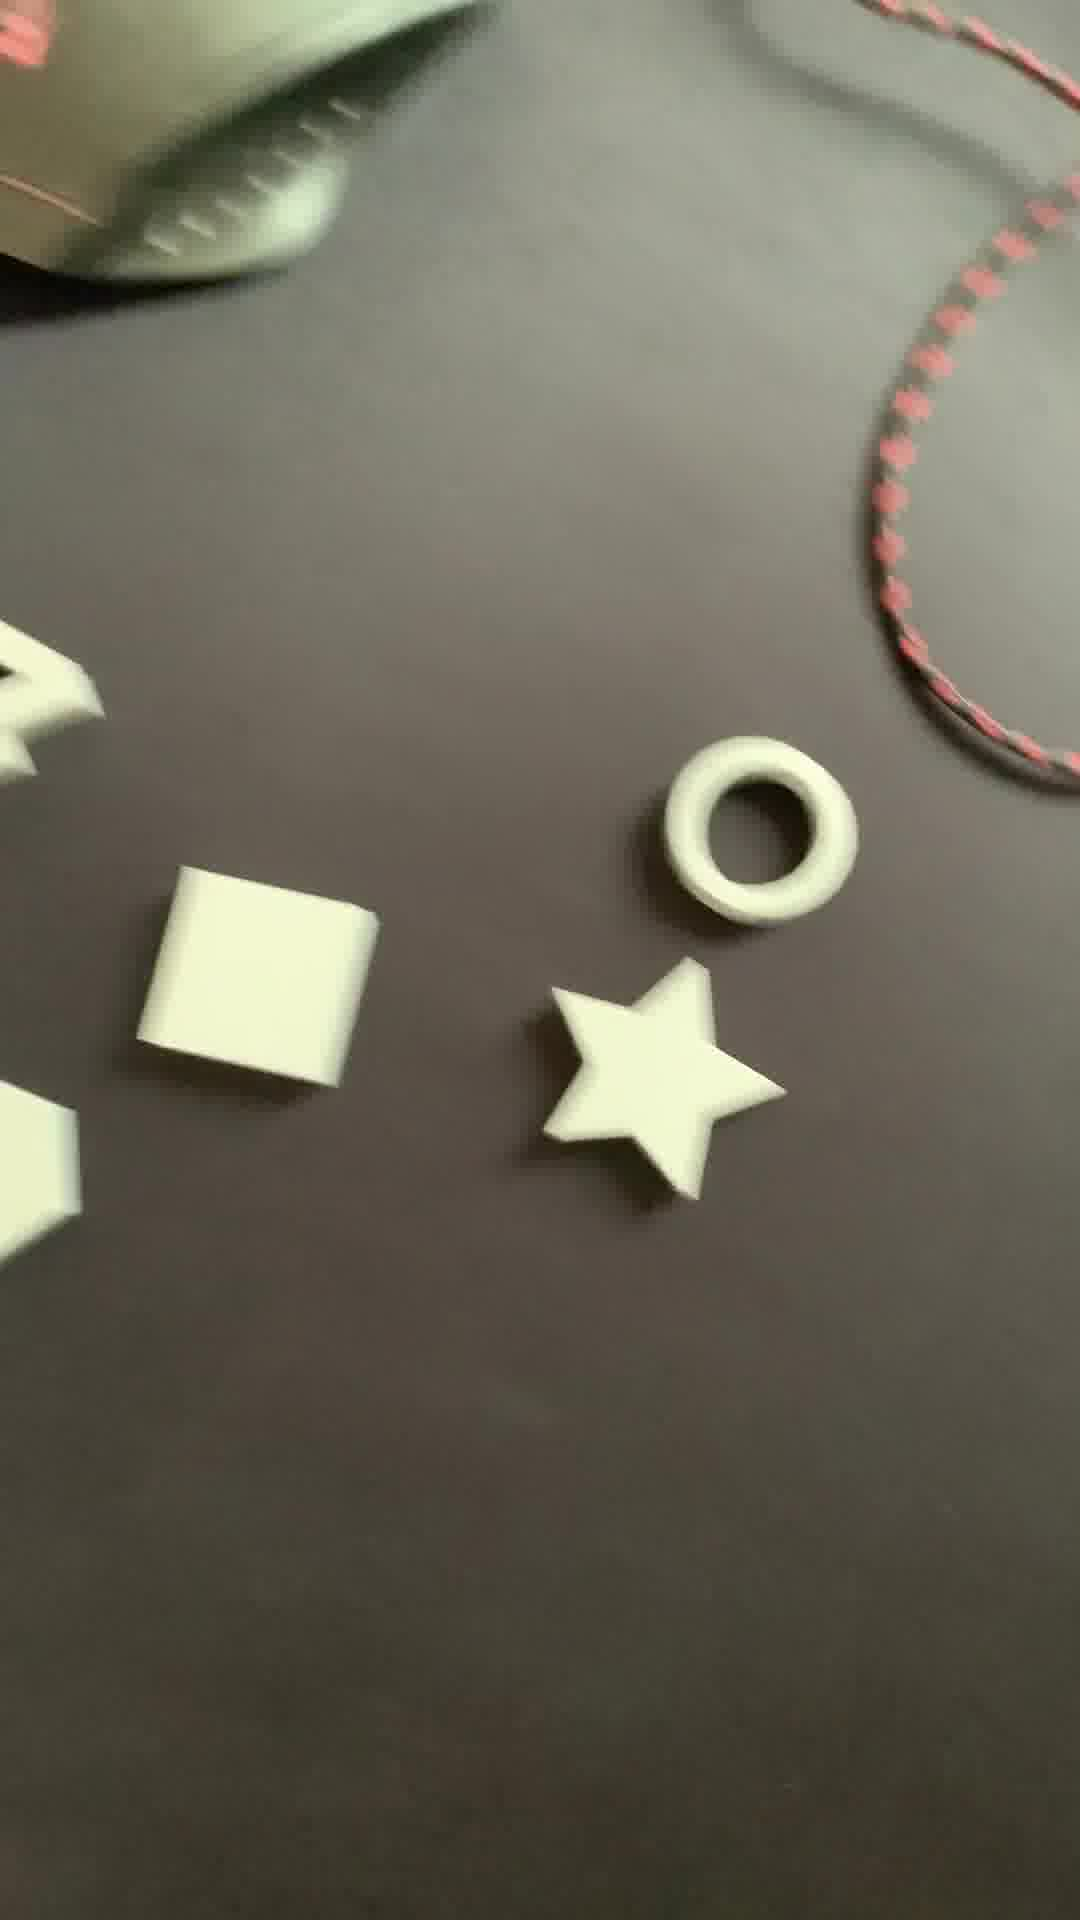Gray hexagon: (1, 1075, 88, 1304)
Gray ring: (666, 738, 858, 942)
Gray square: (133, 860, 378, 1091)
Gray star: (535, 955, 789, 1201)
